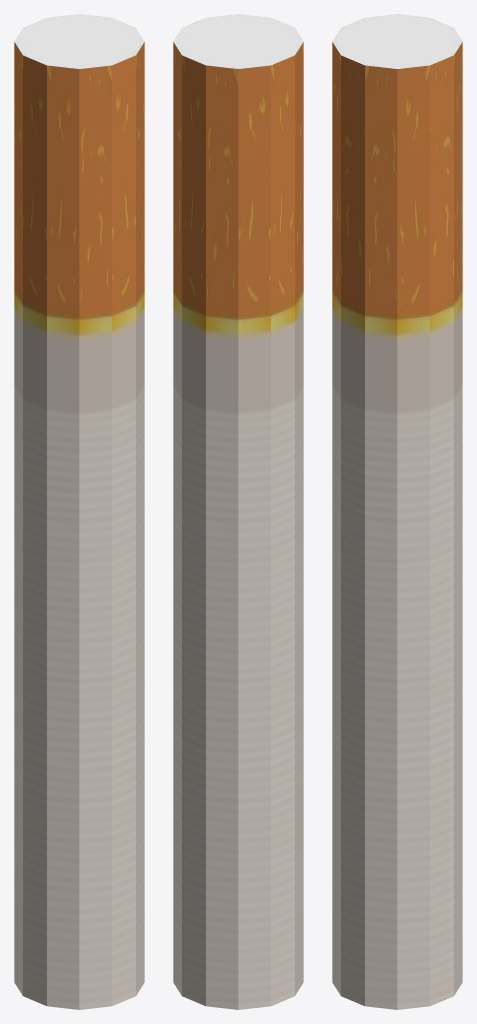
The model's file is cig.glb.
The picture shows the model from 3 angles, left to right: view 1: azimuth 90°, elevation 25°; view 2: azimuth 150°, elevation 25°; view 3: azimuth 270°, elevation 25°; orthographic projection.
Visible parts, largest first — view 1: Cigarette; view 2: Cigarette; view 3: Cigarette.
Boxes of the visible parts, x1=… form: Cigarette: x1=14, y1=14, x2=144, y2=1009; Cigarette: x1=173, y1=14, x2=303, y2=1009; Cigarette: x1=332, y1=14, x2=462, y2=1009.
Bounding box in the file's own units: 0.1049 × 0.8351 × 0.1049.
Materials: 1 (1 with a texture image).
